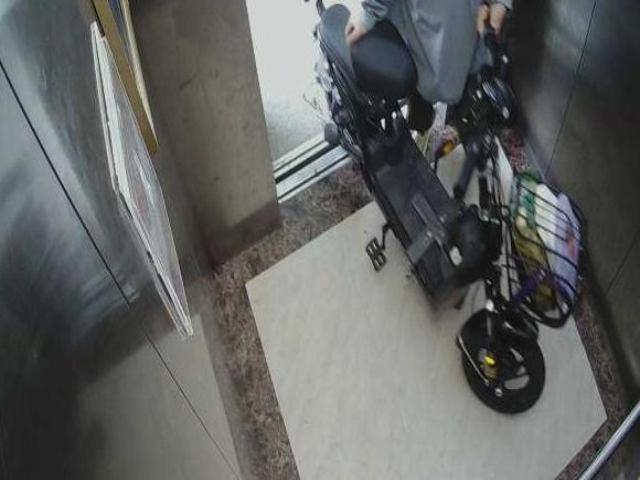emotor: (299, 15, 552, 409)
